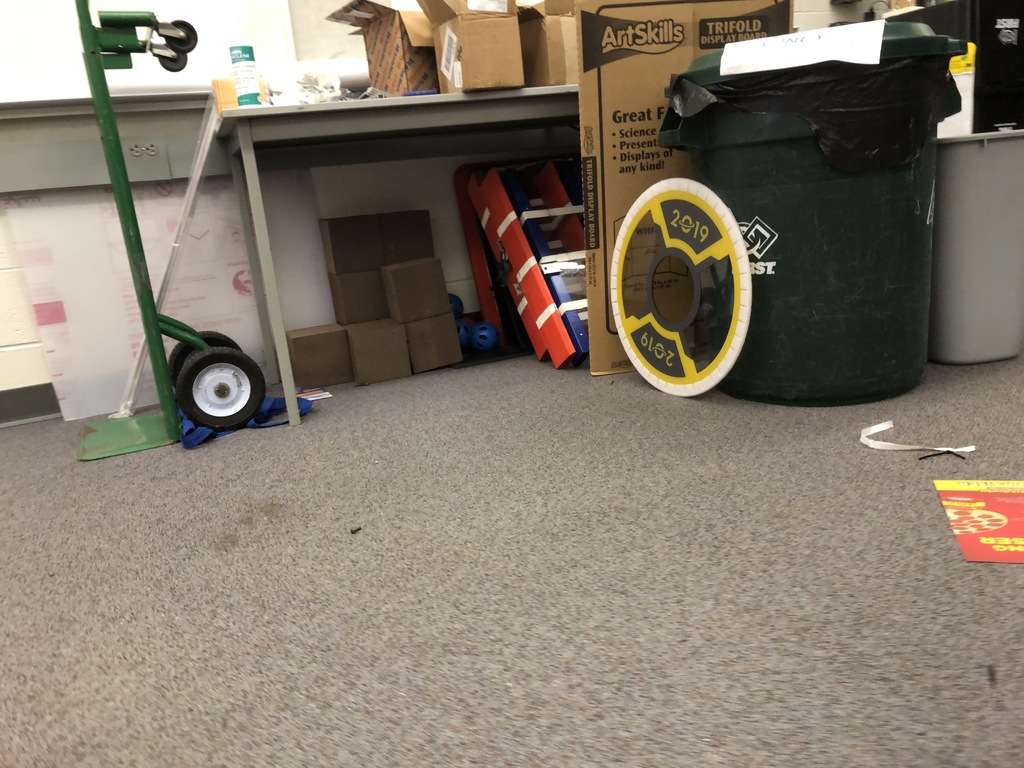hatch_panel: (605, 166, 758, 430)
